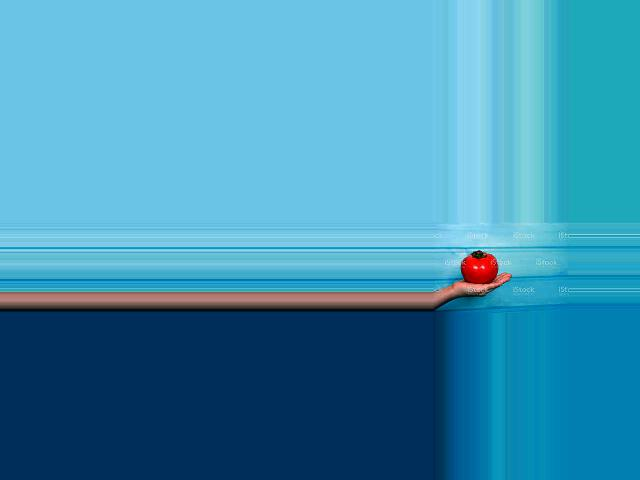tomato: (462, 251, 498, 284)
